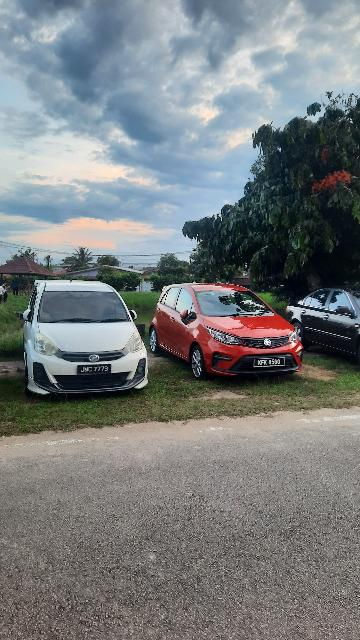License_Plate: (76, 365, 114, 376), (254, 358, 287, 370)
car: (150, 283, 306, 382), (24, 280, 151, 398)
